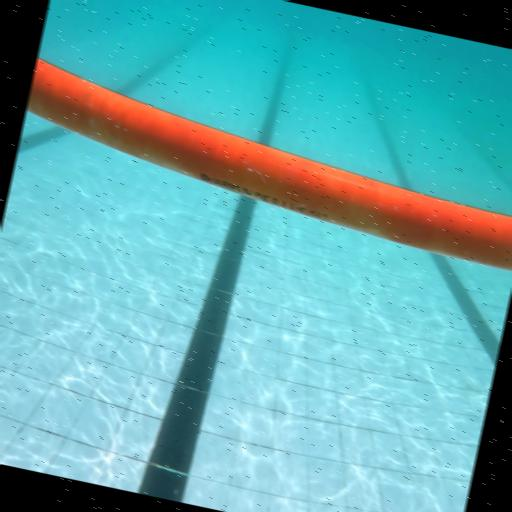upper_gate: (13, 54, 512, 270)
